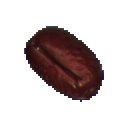ng: (17, 20, 115, 110)
